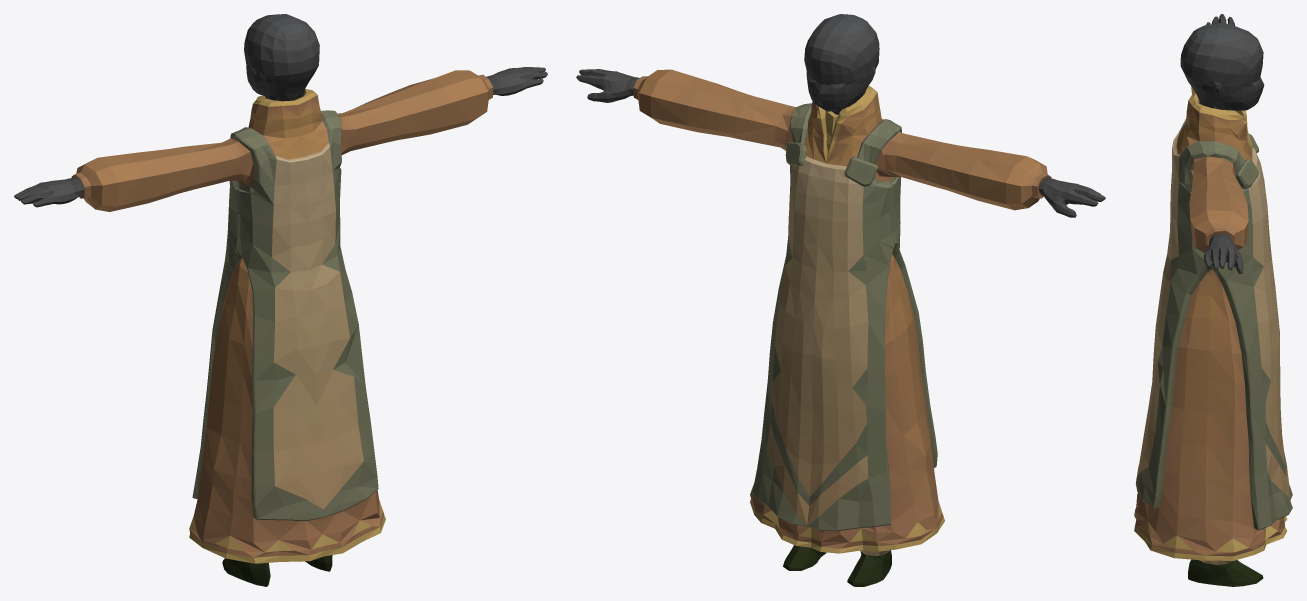
File: CharSkyNPC_Body_AP17Apron.glb
3 views of the same model, side by side, from view 1: azimuth 30°, elevation 25°; view 2: azimuth 150°, elevation 25°; view 3: azimuth 270°, elevation 25° (orthographic). The views are drawn at different scales.
Visible parts, largest first — view 1: CharSkyNPC_Body_AP17Apron; view 2: CharSkyNPC_Body_AP17Apron; view 3: CharSkyNPC_Body_AP17Apron.
Boxes of the visible parts, left/top/right/bottom form: CharSkyNPC_Body_AP17Apron: left=14, top=14, right=547, bottom=586; CharSkyNPC_Body_AP17Apron: left=576, top=14, right=1105, bottom=586; CharSkyNPC_Body_AP17Apron: left=1134, top=14, right=1292, bottom=586.
Bounding box in the file's own units: 14.06 × 13.99 × 3.75.
1 material, 1 textured.
